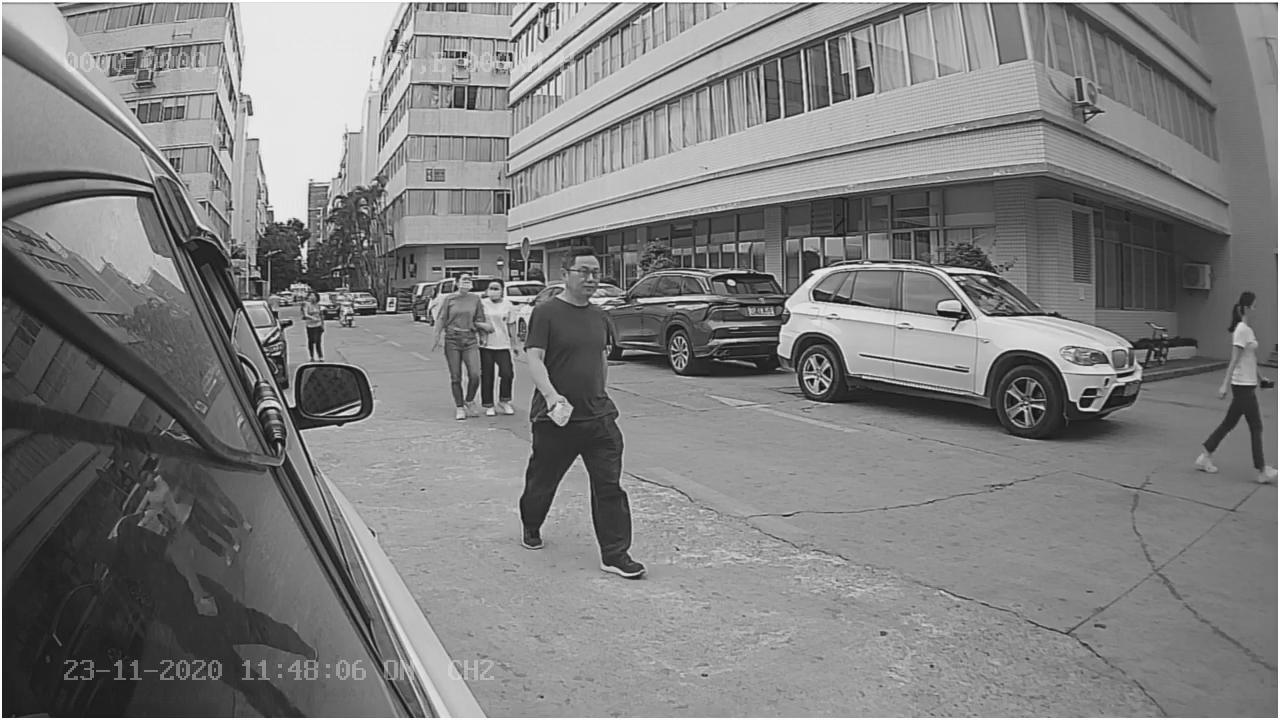person: (516, 250, 648, 574), (1192, 288, 1277, 487), (427, 256, 487, 421)
